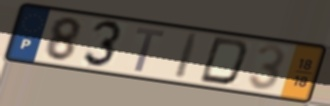3: (80, 20, 126, 71), (246, 42, 288, 93)
8: (44, 15, 85, 63)
D: (196, 35, 251, 88)
I: (172, 31, 203, 82)
T: (132, 26, 167, 75)
